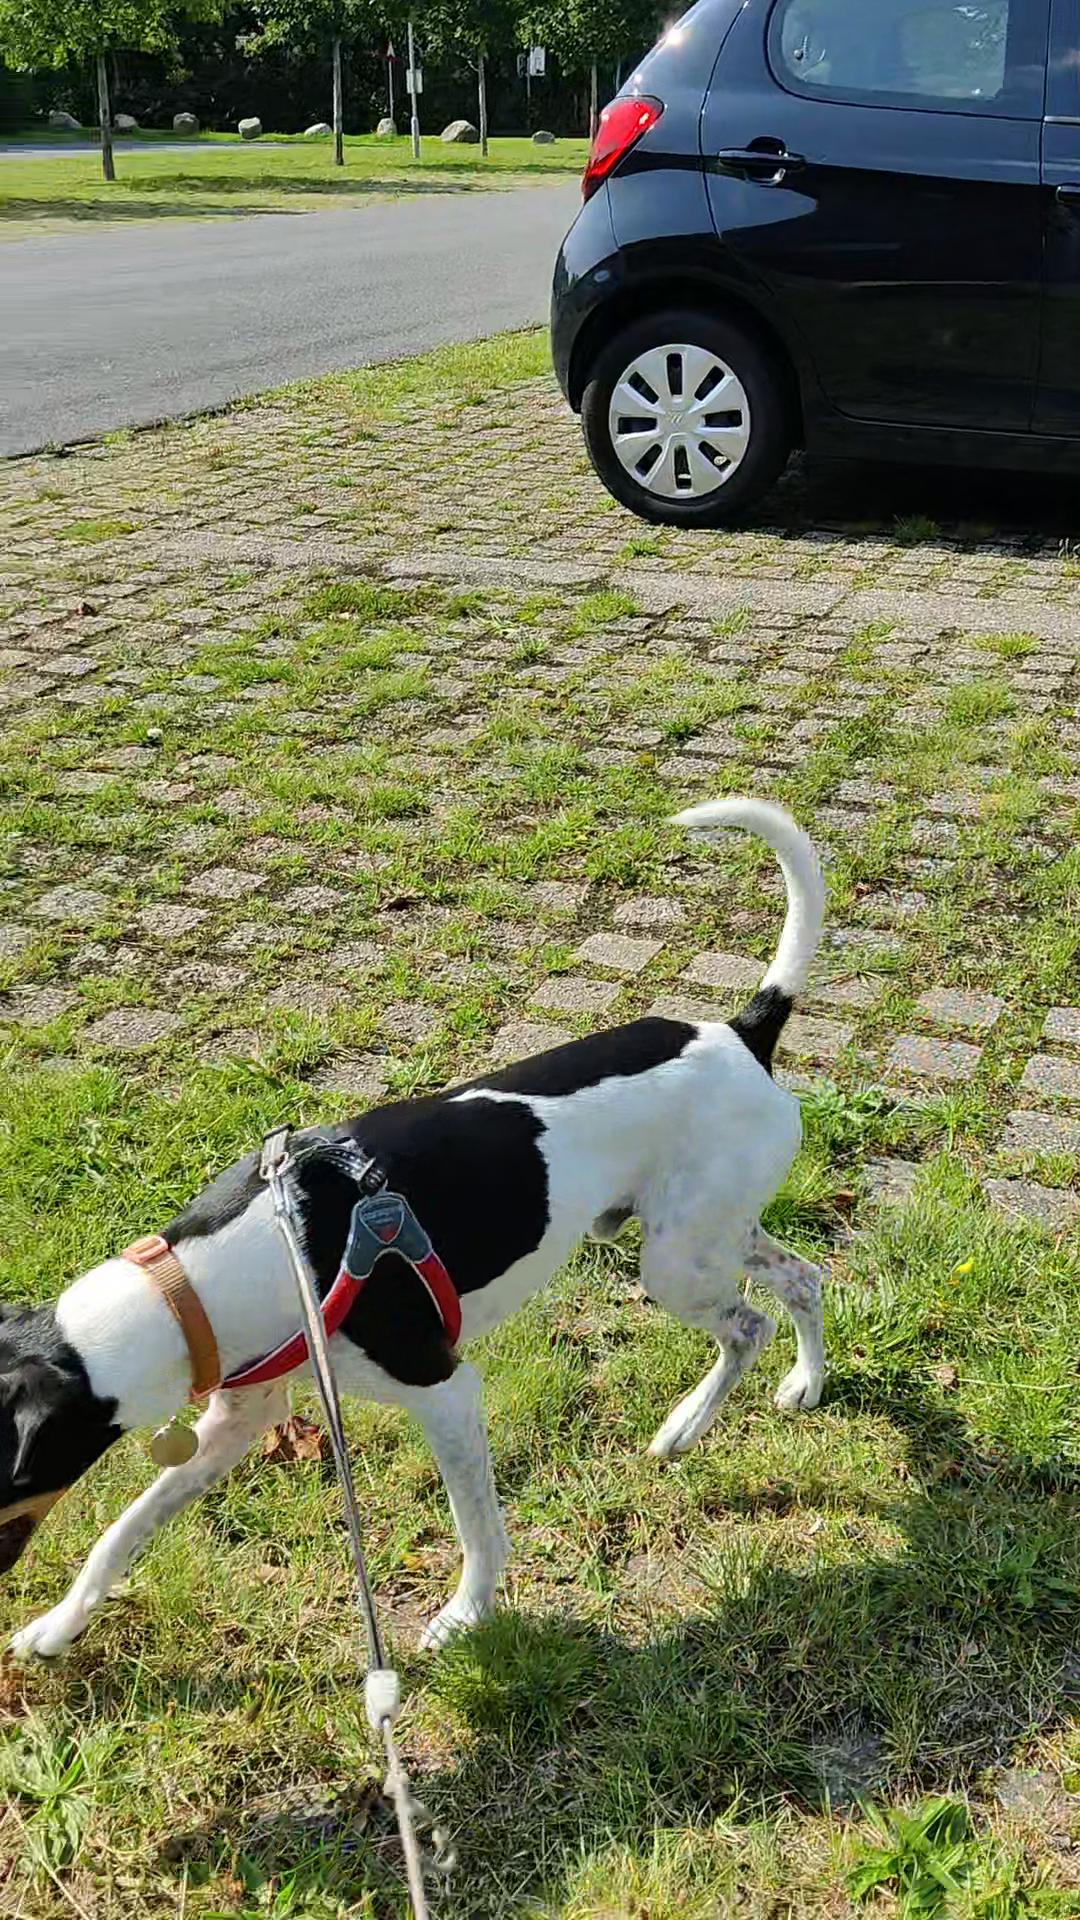Dog: (0, 779, 938, 1669)
